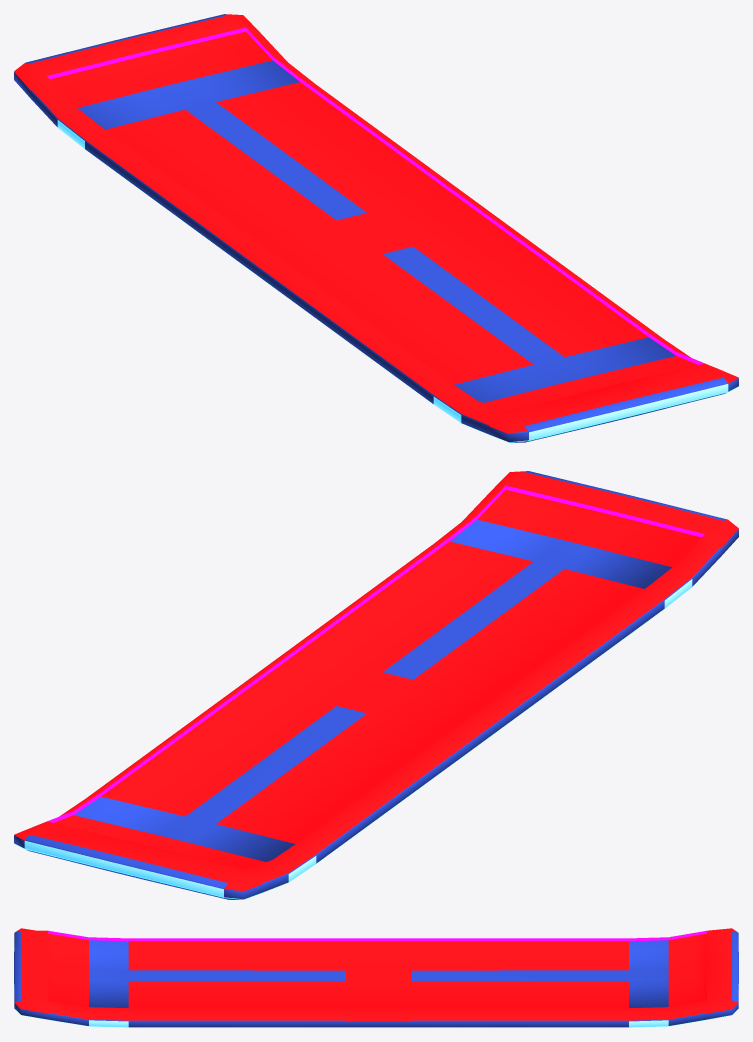
Rendered from hover.fbx.
3 renders of one model, top to bottom at view 1: azimuth 30°, elevation 25°; view 2: azimuth 150°, elevation 25°; view 3: azimuth 270°, elevation 25°, orthographic. The views are drawn at different scales.
Visible parts, largest first — view 1: Cube; view 2: Cube; view 3: Cube.
Part boxes in pixels (x1=…): Cube: x1=14, y1=14, x2=738, y2=442; Cube: x1=14, y1=471, x2=738, y2=899; Cube: x1=14, y1=928, x2=738, y2=1027.
Bounding box in the file's own units: 489 × 70.91 × 1852.
